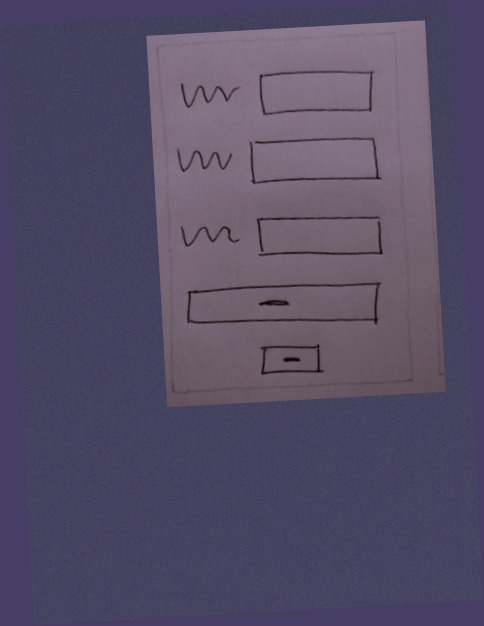button: (180, 275, 389, 341), (254, 340, 333, 383)
text: (175, 73, 246, 116), (178, 216, 243, 255), (173, 140, 235, 178)
text_input: (245, 129, 383, 194), (251, 206, 389, 267), (251, 61, 380, 121)
